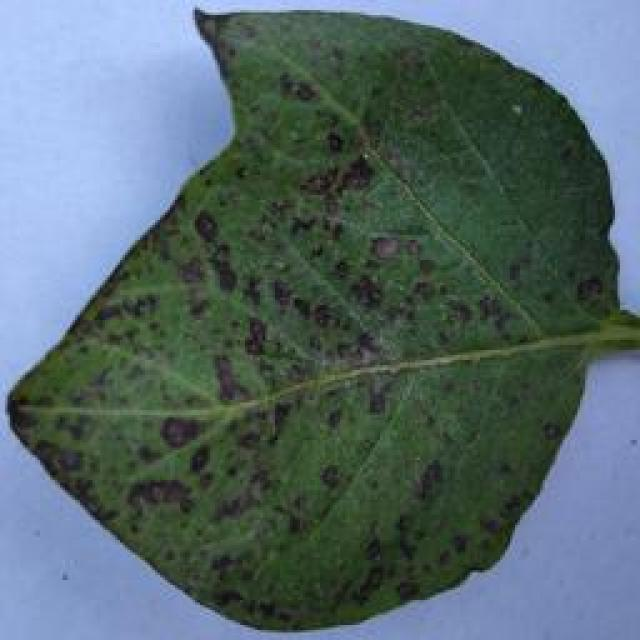Potato_Early_Blight: (2, 1, 628, 626)
